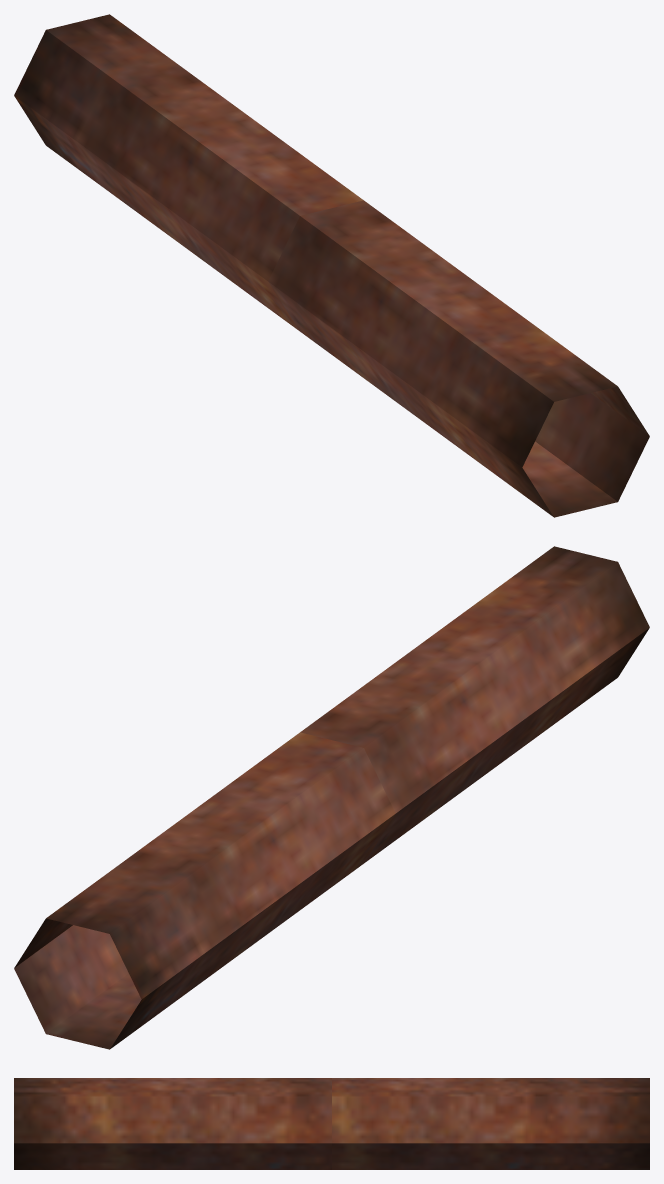
Rendered from MESH_PIPE_BIG_M.fbx.
The picture shows the model from 3 angles, top to bottom: view 1: azimuth 30°, elevation 25°; view 2: azimuth 150°, elevation 25°; view 3: azimuth 270°, elevation 25°; orthographic projection. The views are drawn at different scales.
Visible parts, largest first — view 1: MESH_PIPE_BIG_M; view 2: MESH_PIPE_BIG_M; view 3: MESH_PIPE_BIG_M.
Boxes of the visible parts, x1,y1,x2,y2 form: MESH_PIPE_BIG_M: [14, 14, 649, 517]; MESH_PIPE_BIG_M: [14, 546, 649, 1049]; MESH_PIPE_BIG_M: [14, 1078, 649, 1169].
Size of the model in its own units: 0.58 by 0.5023 by 4.
